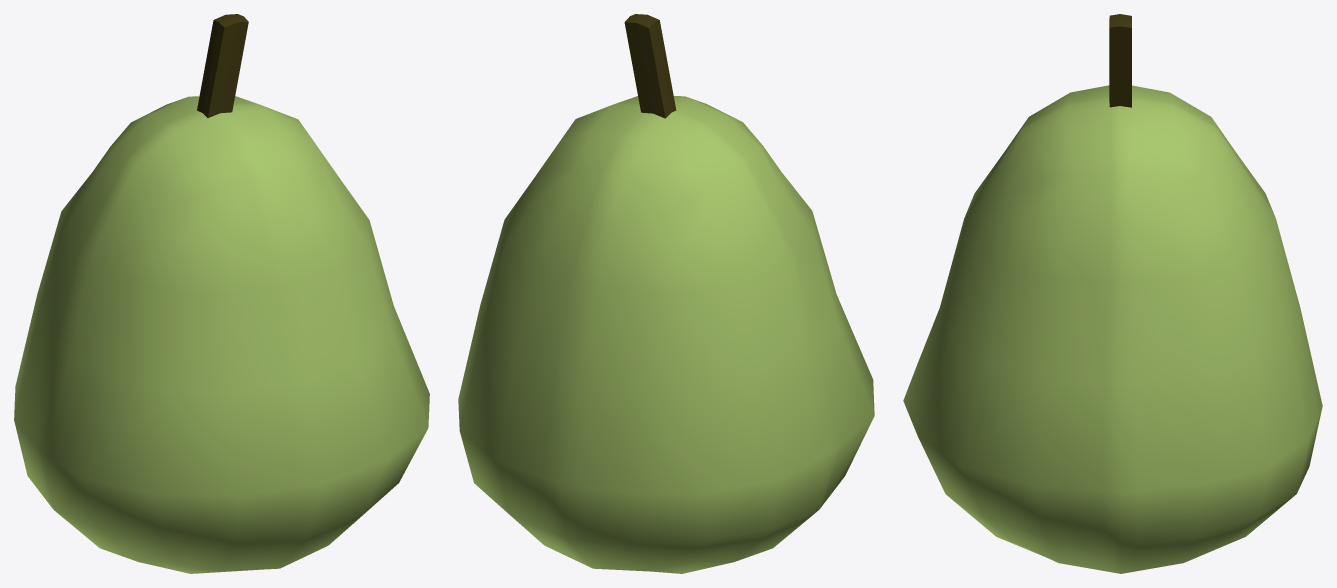
Rendered from Pear.fbx.
3 renders of one model, left to right at view 1: azimuth 30°, elevation 25°; view 2: azimuth 150°, elevation 25°; view 3: azimuth 270°, elevation 25°, orthographic.
Visible parts, largest first — view 1: Pear; view 2: Pear; view 3: Pear.
Boxes of the visible parts, left/top/right/bottom form: Pear: left=14, top=14, right=429, bottom=573; Pear: left=458, top=14, right=874, bottom=573; Pear: left=903, top=14, right=1322, bottom=573.
Bounding box in the file's own units: 1.14 × 1.6 × 1.14.
